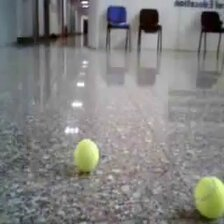tennis: (193, 175, 224, 217), (73, 140, 99, 171)
